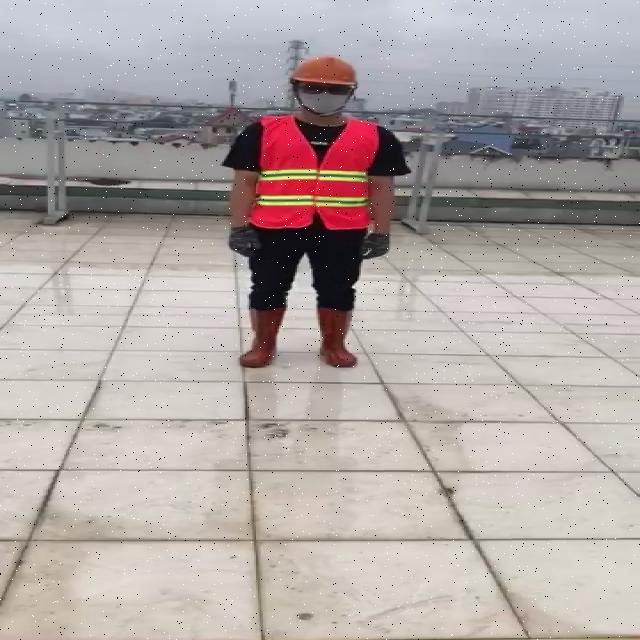Hard_hat: (285, 52, 365, 97)
Person: (216, 50, 413, 373)
Vest: (250, 111, 379, 232)
